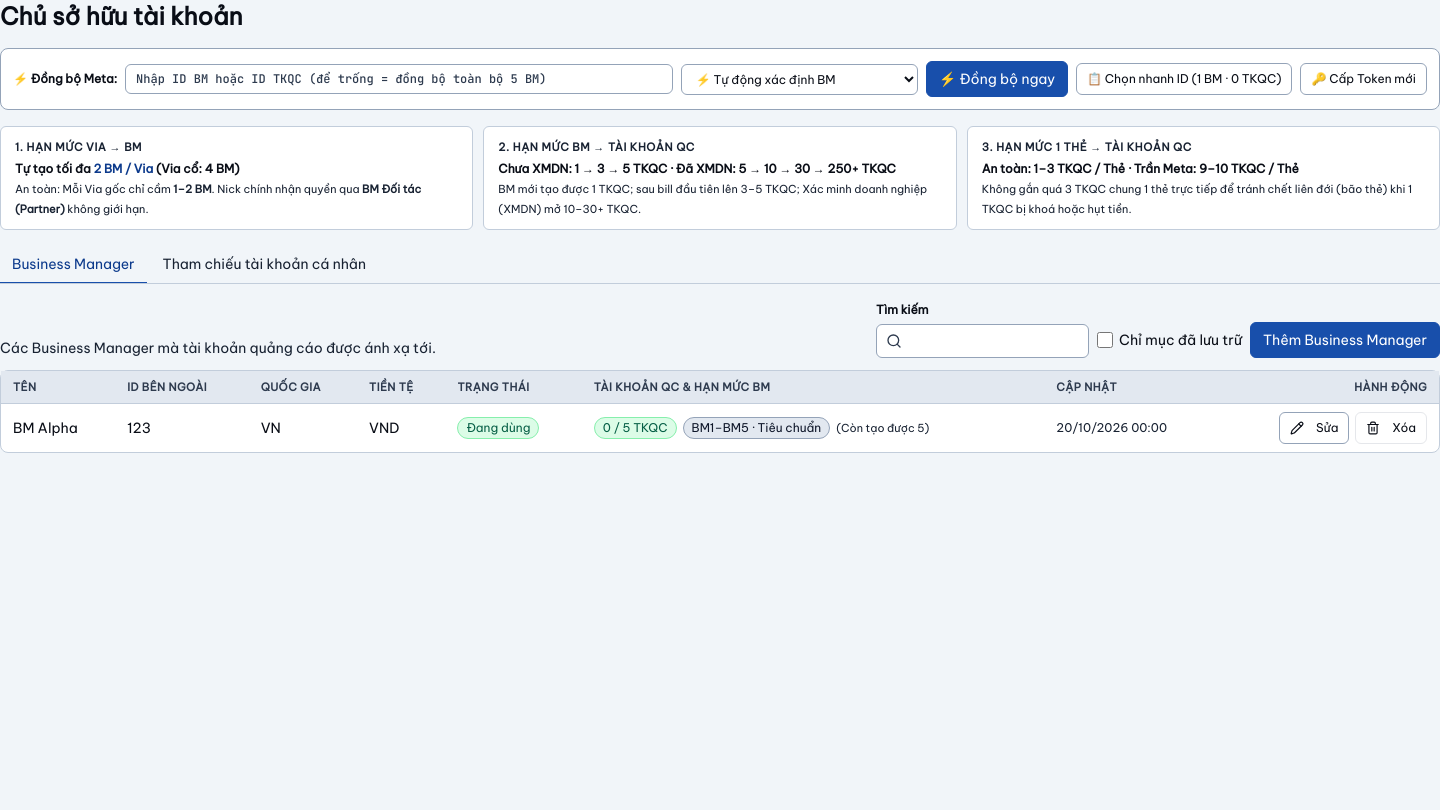
Test: Ownership references (BusinessManagers) › Esc and Cancel close the dialog and write nothing
The image size is (1440, 810).
Click the button with aria-label "Lưu trữ". click: (1391, 428)
box: [1355,412,1427,444]
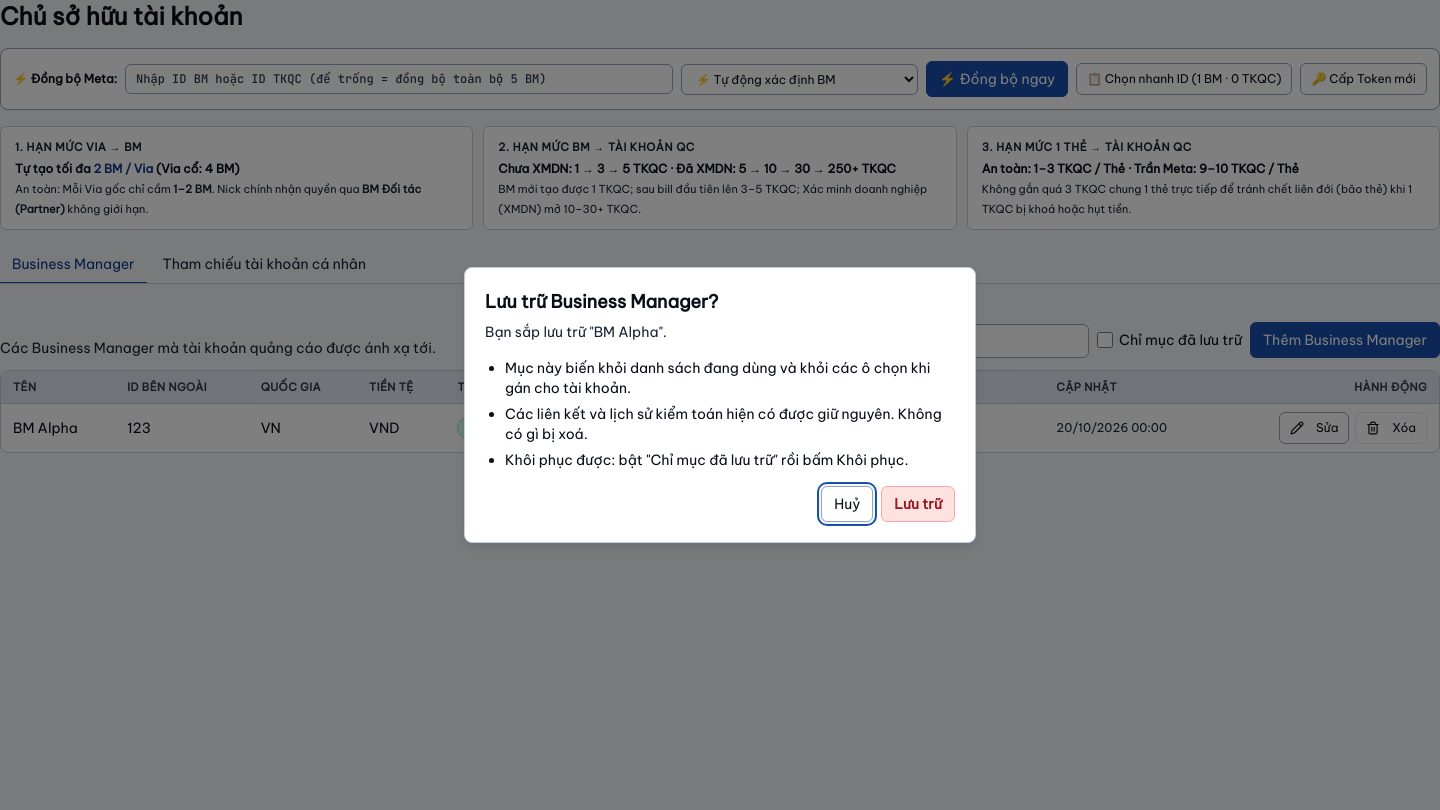
Expected: the dialog is shown, [464,267,976,543]
Press Escape
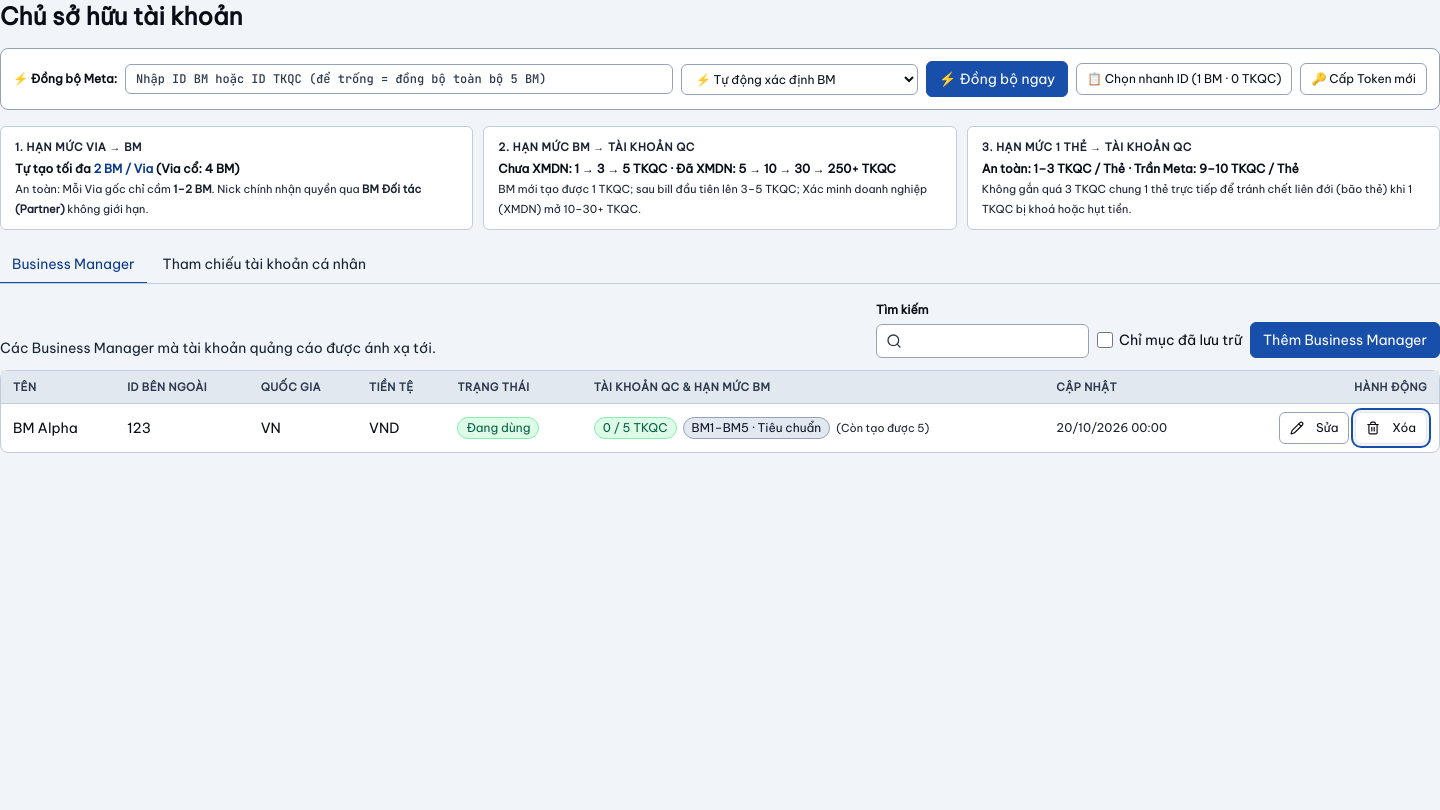
Expected: the dialog is gone
